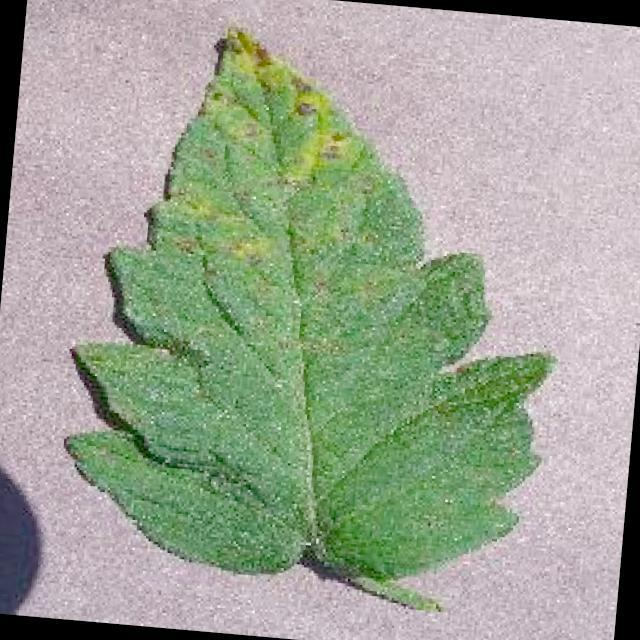Tomato Septoria spot leaf: (52, 8, 585, 600)
